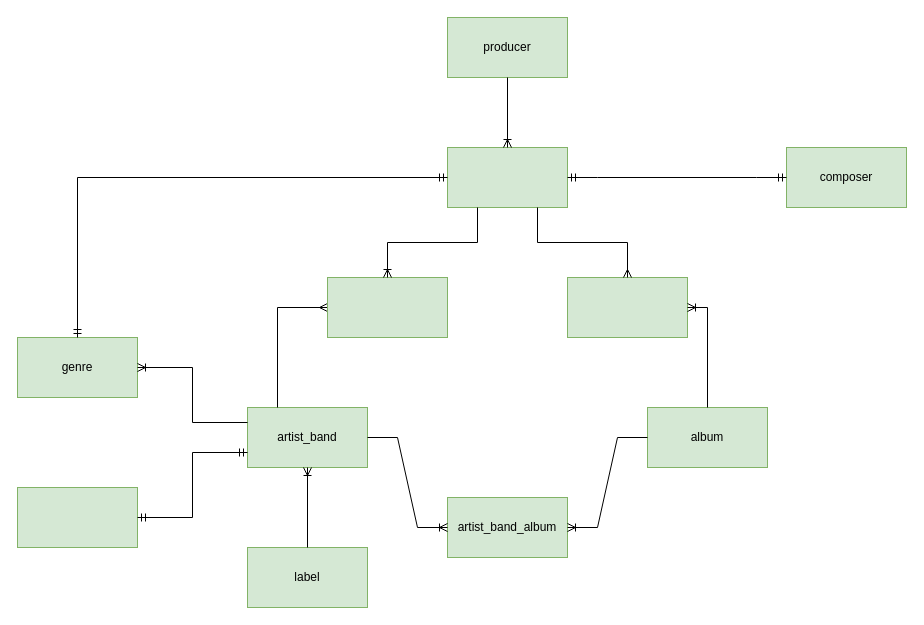
Some shapes in this 924 by 625 pixel diagram are drawn without their labels. The centre of each missing label's shape, as x and y in pixels:
artist_band_song: [387,307]
awards: [77,517]
song: [507,177]
song_album: [627,307]
